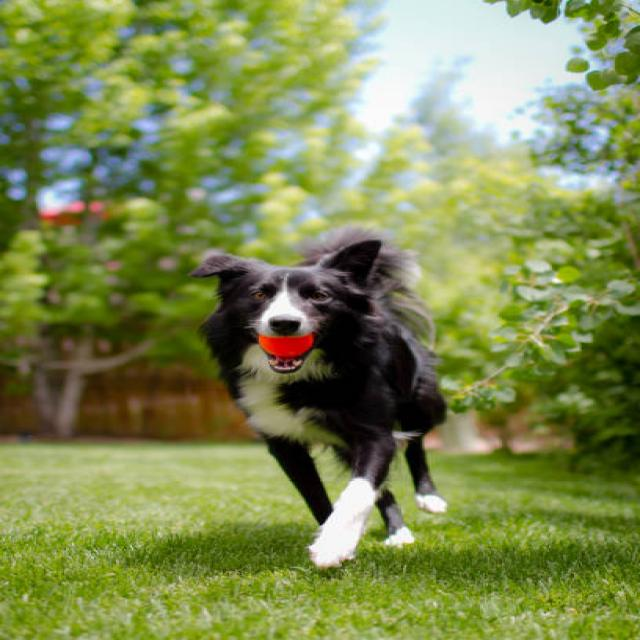BORDER_COLLIE: (173, 203, 515, 582)
